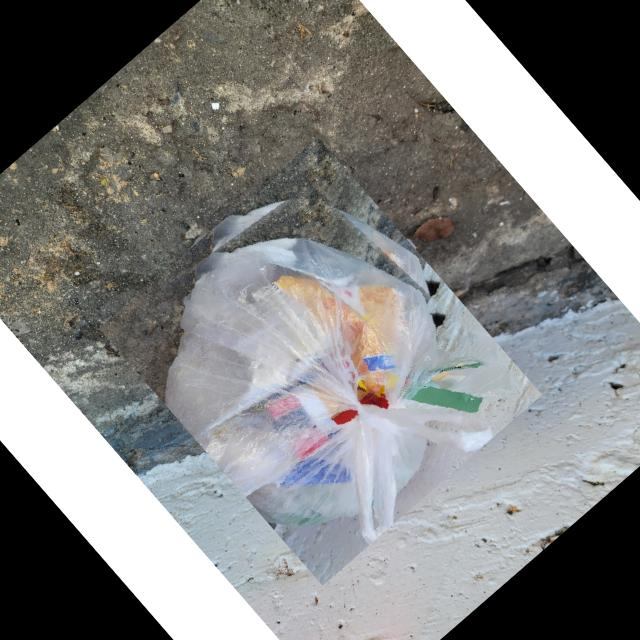other_trashbag: (170, 227, 509, 540)
